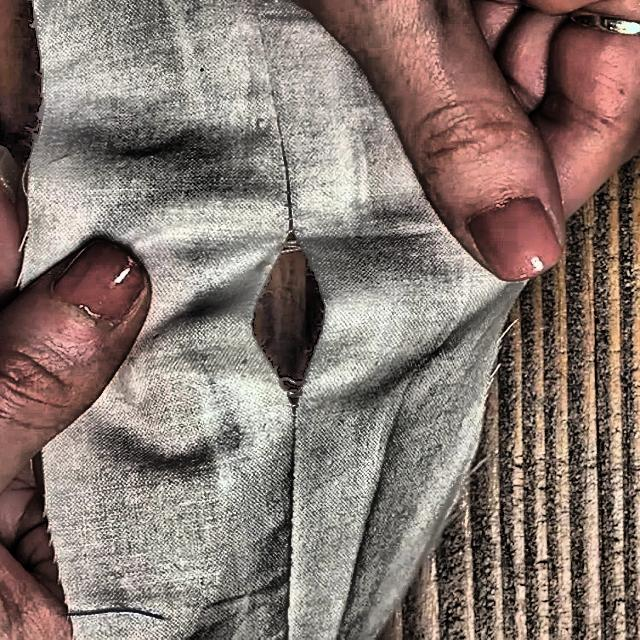seam: (200, 200, 370, 428)
